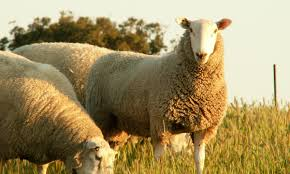koyun: (90, 18, 234, 131), (1, 78, 116, 173)
